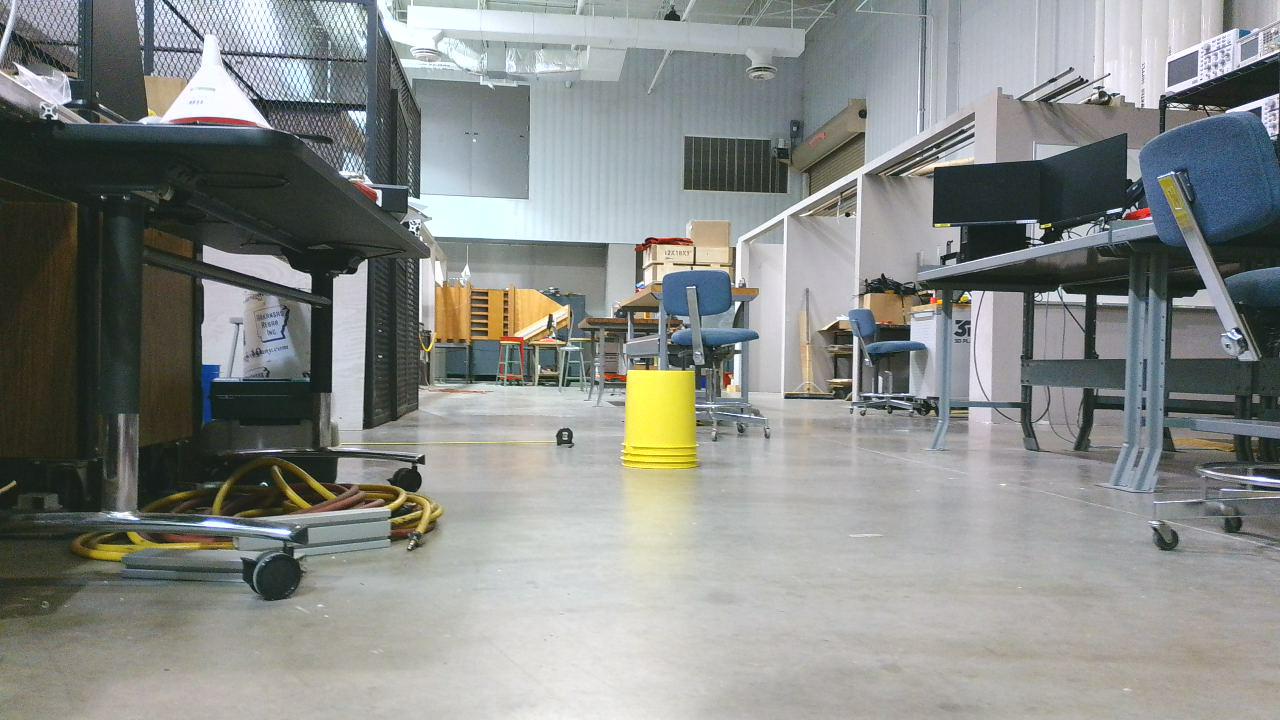yellow_bucket: (625, 375, 706, 474)
